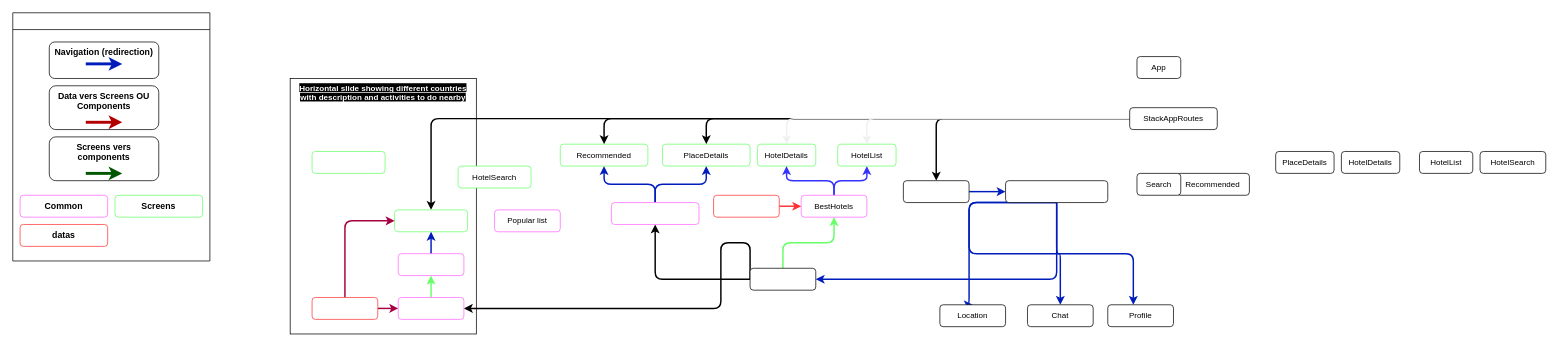
Some shapes in this 1559 by 347 pixel diagram are drawn without their labels. Each missing label, with the box of its shape:
BottomTabApp_Routes: (1005, 180, 1108, 203)
Country: (397, 253, 464, 276)
CountryDetails: (394, 209, 468, 232)
dataCountry: (311, 297, 378, 319)
dataHotels: (713, 195, 779, 217)
Home: (749, 268, 816, 290)
LEGENDE: (12, 12, 210, 261)
Onboarding: (903, 180, 969, 203)
Places: (397, 297, 464, 319)
PlacesByCountry: (311, 151, 385, 173)
Recommendations: (611, 202, 699, 224)
